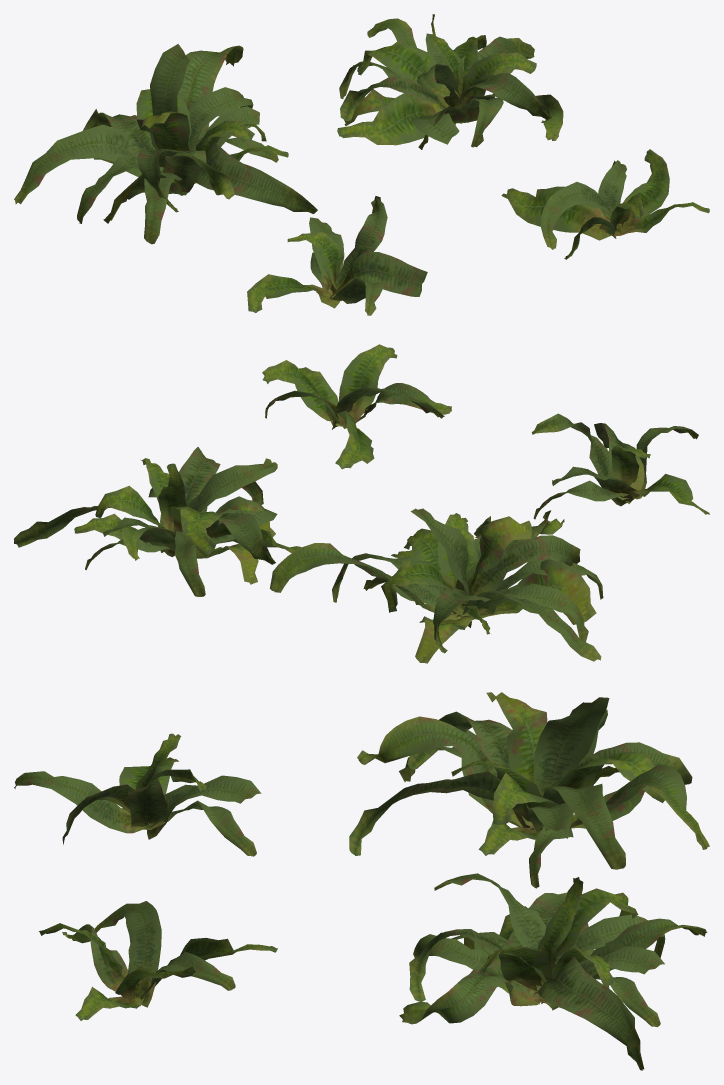
The model's file is fern_02.glb.
3 views of the same model, one above another, from view 1: azimuth 30°, elevation 25°; view 2: azimuth 150°, elevation 25°; view 3: azimuth 270°, elevation 25° (orthographic). The views are drawn at different scales.
Parts seen in each view (by area): view 1: fern_02_b; view 2: fern_02_b; view 3: fern_02_b.
Part boxes in pixels (box(x1,y1,x2,y2)): fern_02_b: box(14, 14, 709, 315); fern_02_b: box(14, 344, 709, 663); fern_02_b: box(14, 692, 709, 1070).
Bounding box in the file's own units: 1.97 × 0.4277 × 1.72.
1 material, 1 textured.
